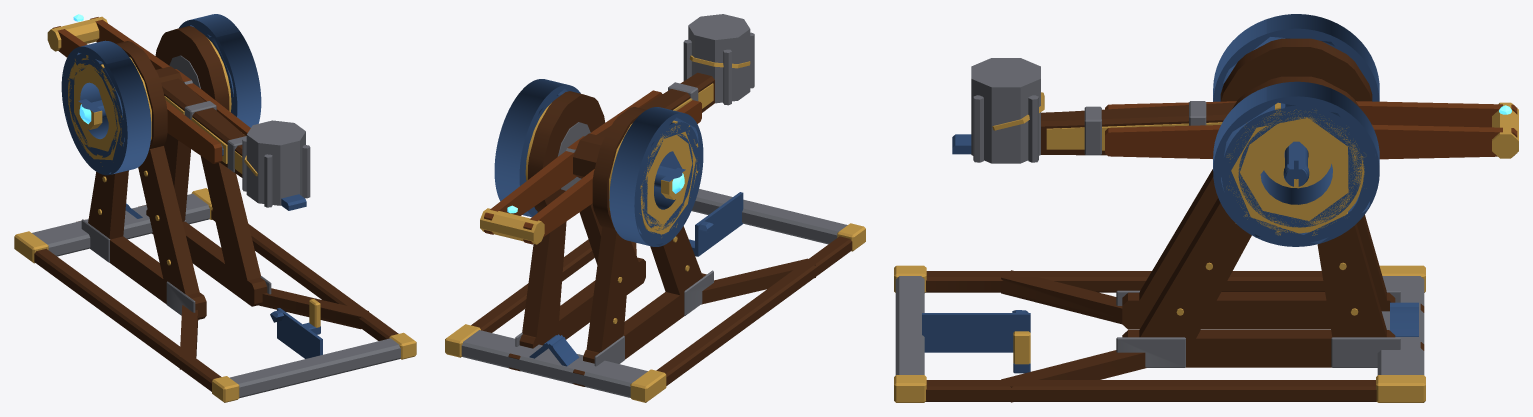
File: heavy_launcher.glb
The picture shows the model from 3 angles, left to right: view 1: azimuth 30°, elevation 25°; view 2: azimuth 150°, elevation 25°; view 3: azimuth 270°, elevation 25°; orthographic projection. The views are drawn at different scales.
Visible parts, largest first — view 1: Base, Cassette_L, Arm, Yoke, Cassette_R, Sear, Axle; view 2: Base, Cassette_L, Arm, Yoke, Cassette_R, Sear, Axle, Buffer; view 3: Base, Cassette_R, Arm, Yoke, Sear, Cassette_L, Buffer, Axle.
Part boxes in pixels (left/top/right/bottom): Base: left=14, top=26, right=416, bottom=402; Cassette_L: left=61, top=40, right=151, bottom=175; Arm: left=156, top=66, right=310, bottom=210; Yoke: left=47, top=14, right=250, bottom=163; Cassette_R: left=178, top=14, right=261, bottom=127; Sear: left=270, top=299, right=322, bottom=358; Axle: left=78, top=99, right=106, bottom=129; Base: left=445, top=91, right=865, bottom=402; Cassette_L: left=609, top=107, right=703, bottom=246; Arm: left=573, top=14, right=754, bottom=178; Yoke: left=480, top=90, right=701, bottom=244; Cassette_R: left=494, top=79, right=580, bottom=217; Sear: left=689, top=192, right=743, bottom=256; Axle: left=654, top=167, right=686, bottom=199; Buffer: left=529, top=334, right=579, bottom=366; Base: left=894, top=38, right=1425, bottom=402; Cassette_R: left=1213, top=81, right=1379, bottom=246; Arm: left=952, top=58, right=1235, bottom=163; Yoke: left=1105, top=101, right=1518, bottom=159; Sear: left=922, top=310, right=1030, bottom=373; Cassette_L: left=1213, top=14, right=1379, bottom=101; Buffer: left=1390, top=302, right=1418, bottom=336; Axle: left=1283, top=141, right=1309, bottom=186.
Bounding box in the file's own units: 1.56 × 1.76 × 3.44.
